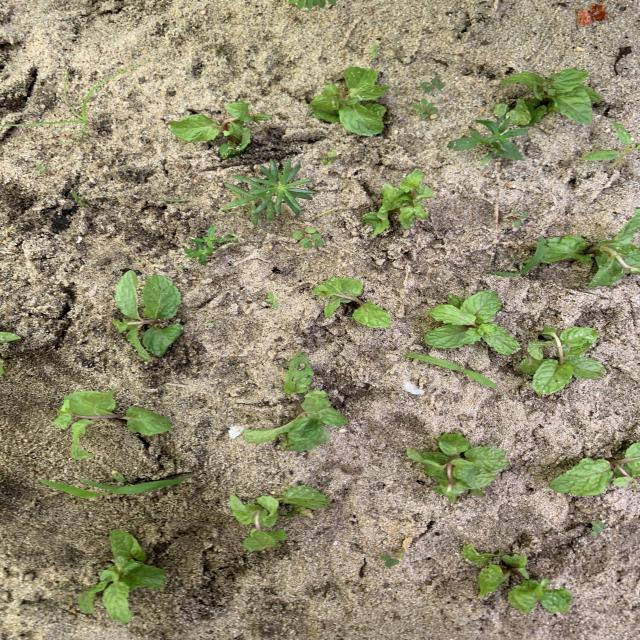crop: (243, 353, 347, 451), (523, 208, 639, 287), (79, 531, 165, 622), (55, 391, 170, 458), (463, 544, 571, 614), (407, 433, 507, 502), (229, 486, 328, 551), (114, 272, 182, 359), (499, 69, 600, 126), (425, 292, 519, 352), (522, 327, 605, 394), (171, 100, 268, 156), (311, 67, 387, 134), (549, 442, 639, 495), (363, 172, 434, 234), (314, 278, 390, 327)
weed: (221, 160, 315, 225), (20, 70, 123, 127), (449, 119, 527, 163), (39, 475, 187, 496), (406, 354, 498, 387), (582, 122, 640, 169), (184, 223, 239, 263), (381, 537, 412, 567), (294, 226, 323, 247), (412, 99, 438, 118), (511, 209, 528, 226), (420, 79, 443, 91), (72, 191, 88, 207), (588, 521, 604, 535), (265, 292, 278, 307), (324, 151, 337, 163), (316, 209, 335, 216), (370, 43, 378, 56), (37, 165, 48, 173)
